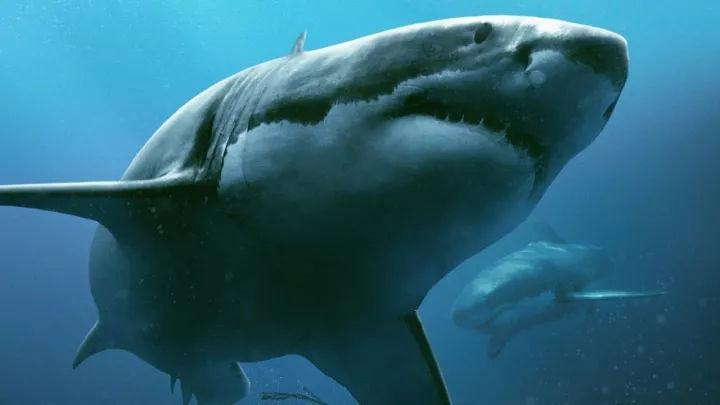fish: (9, 10, 629, 400), (444, 218, 667, 348)
